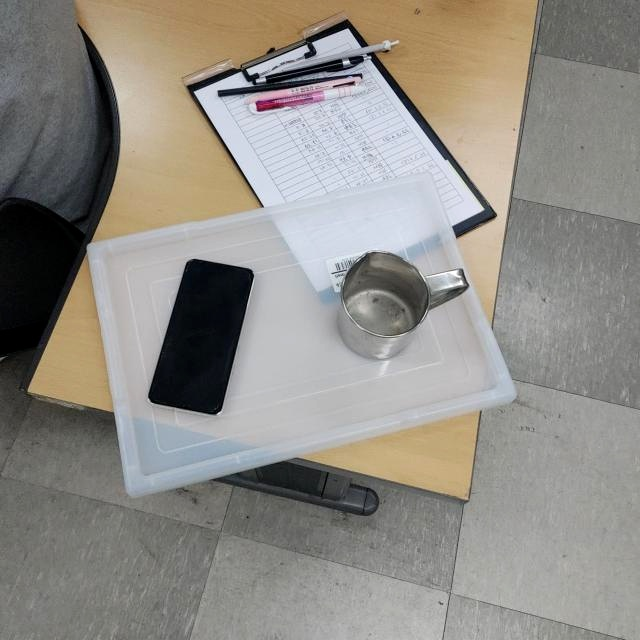cup: (335, 248, 471, 360)
phone: (148, 258, 256, 418)
